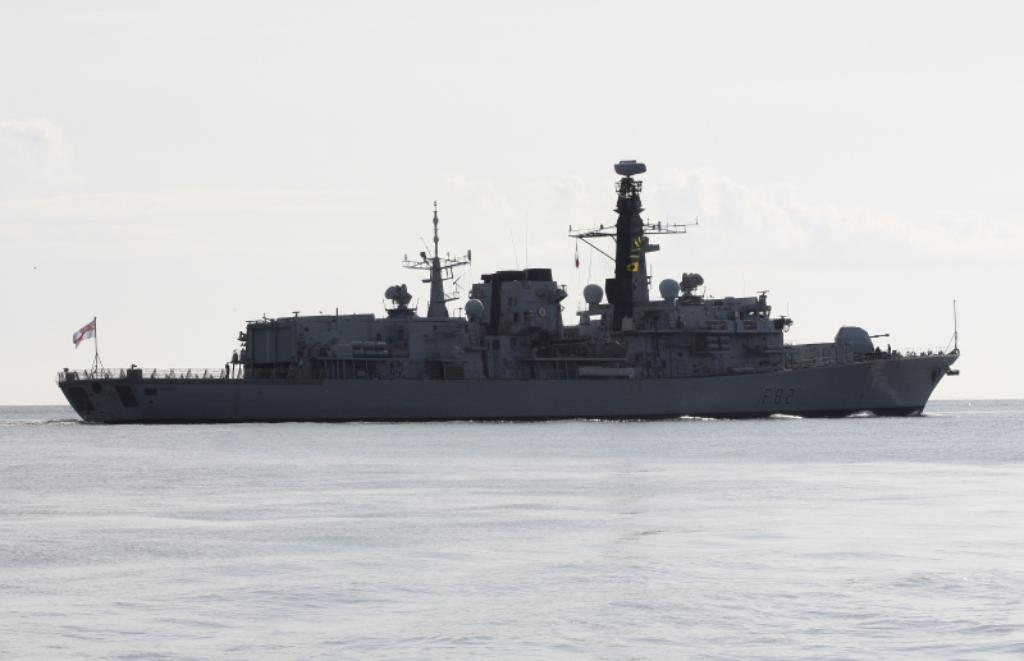Warship: (50, 154, 958, 430)
